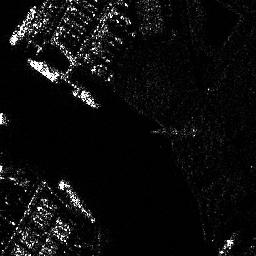ship: (7, 5, 36, 44), (28, 57, 59, 84), (56, 180, 83, 209)
